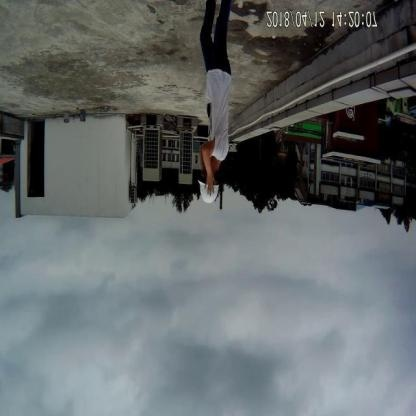white: (197, 175, 222, 209)
